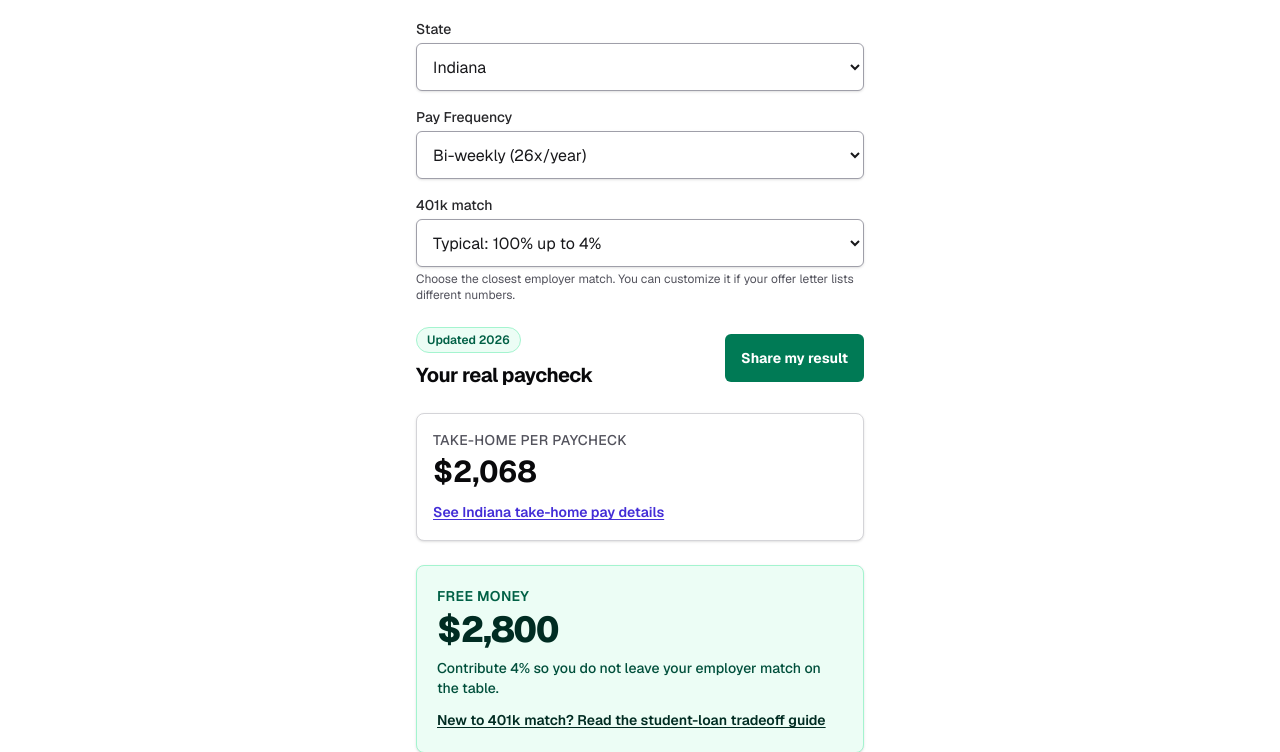
Test case: Calculator › uses a single 401k match preset unless custom is selected
The width and height of the screenshot is (1280, 752).
Expected: the field labelled "employer match rate" is not shown
Expected: the field labelled "match limit" is not shown
Select "Custom" in the dropdown labelled "401k match": (640, 243) [416,219,864,267]
(page scrolled)
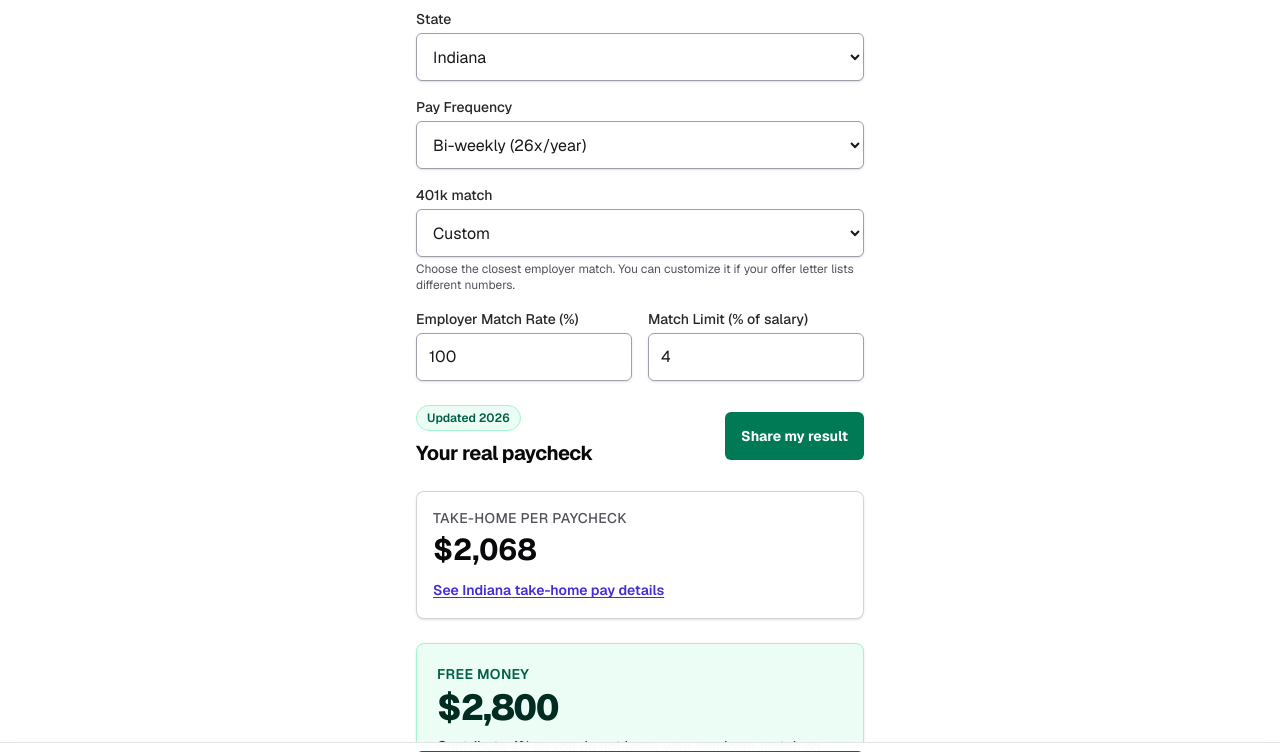
Result: the field labelled "Employer Match Rate (%)" is shown at [416,333,632,381]
Result: the field labelled "Match Limit (% of salary)" is shown at [648,333,864,381]
